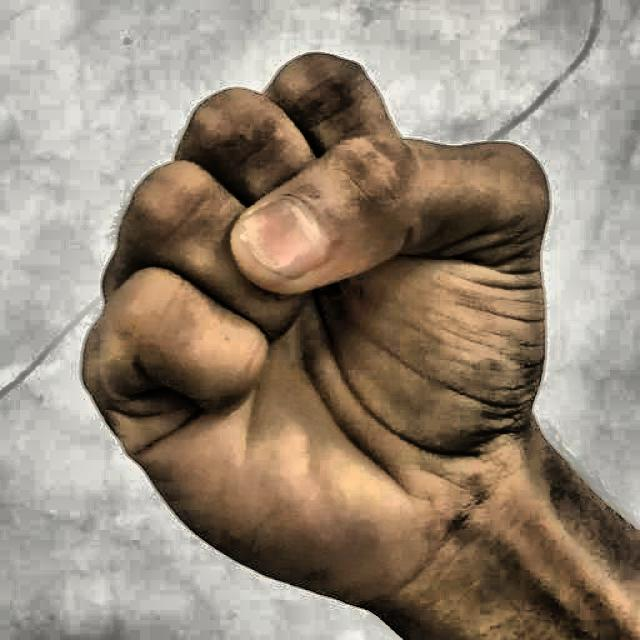Sha: (46, 29, 593, 640)
